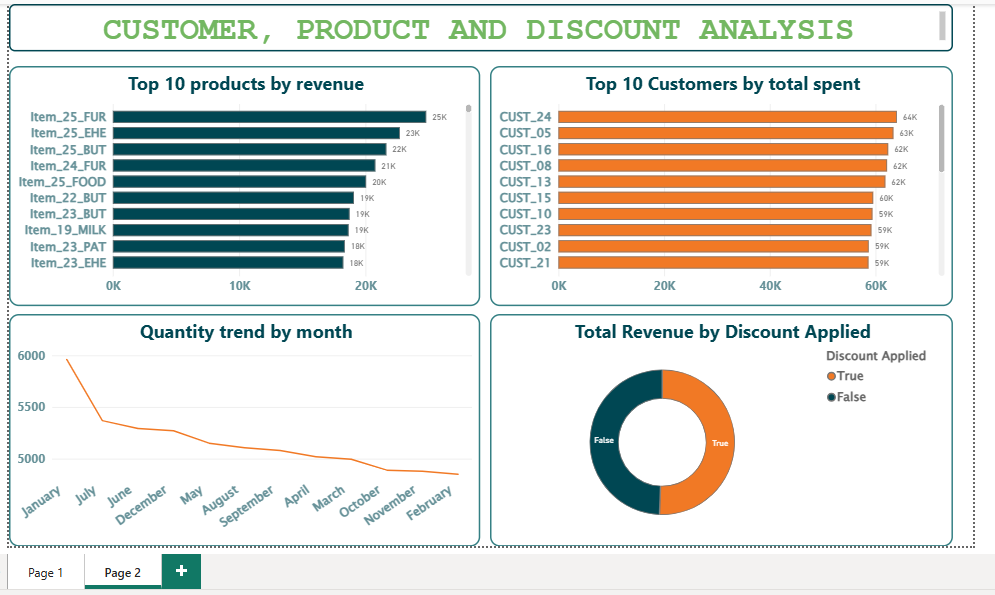

What the dashboard file says about the page in this screenshot:
{"tool":"powerbi","page":{"name":"Page 2","canvas":[1280,720],"ordinal":1},"visuals":[{"type":"donutChart","fields":{"Category":["Cleaned Data.Discount Applied"],"Y":["Cleaned Data.Total Revenue"]},"box":[639.5,411.2,614.6,308.8],"z":0},{"type":"lineChart","title":"Quantity trend by month","fields":{"Category":["Cleaned Data.Month"],"Y":["Sum(Cleaned Data.Quantity)"]},"box":[0,411.2,626.3,308.8],"z":1000},{"type":"textbox","box":[0,0,1254.1,62.9],"z":2000},{"type":"barChart","title":"Top 10 products by revenue","fields":{"Category":["Cleaned Data.Item"],"Y":["Cleaned Data.Total Revenue"]},"box":[0,82.4,625.7,318.8],"z":3000},{"type":"barChart","title":"Top 10  Customers  by total spent","fields":{"Category":["Cleaned Data.Customer ID"],"Y":["Sum(Cleaned Data.Total Spent)"]},"box":[639,82.4,615.1,318.8],"z":4000}]}

Visuals, with their boxes on the page's 1280x720 design canvas (x1, y1, x2, y2). These are canvas units, not pixel positions in the 995x595 screenshot, which may show the page scaled, cropped or inside an application window:
donutChart - Cleaned Data.Discount Applied x Cleaned Data.Total Revenue: <bbox>640, 411, 1254, 720</bbox>
"Quantity trend by month" lineChart: <bbox>0, 411, 626, 720</bbox>
textbox: <bbox>0, 0, 1254, 63</bbox>
"Top 10 products by revenue" barChart: <bbox>0, 82, 626, 401</bbox>
"Top 10  Customers  by total spent" barChart: <bbox>639, 82, 1254, 401</bbox>
